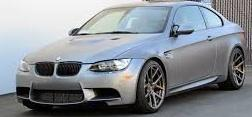Cars: (19, 5, 246, 113)
